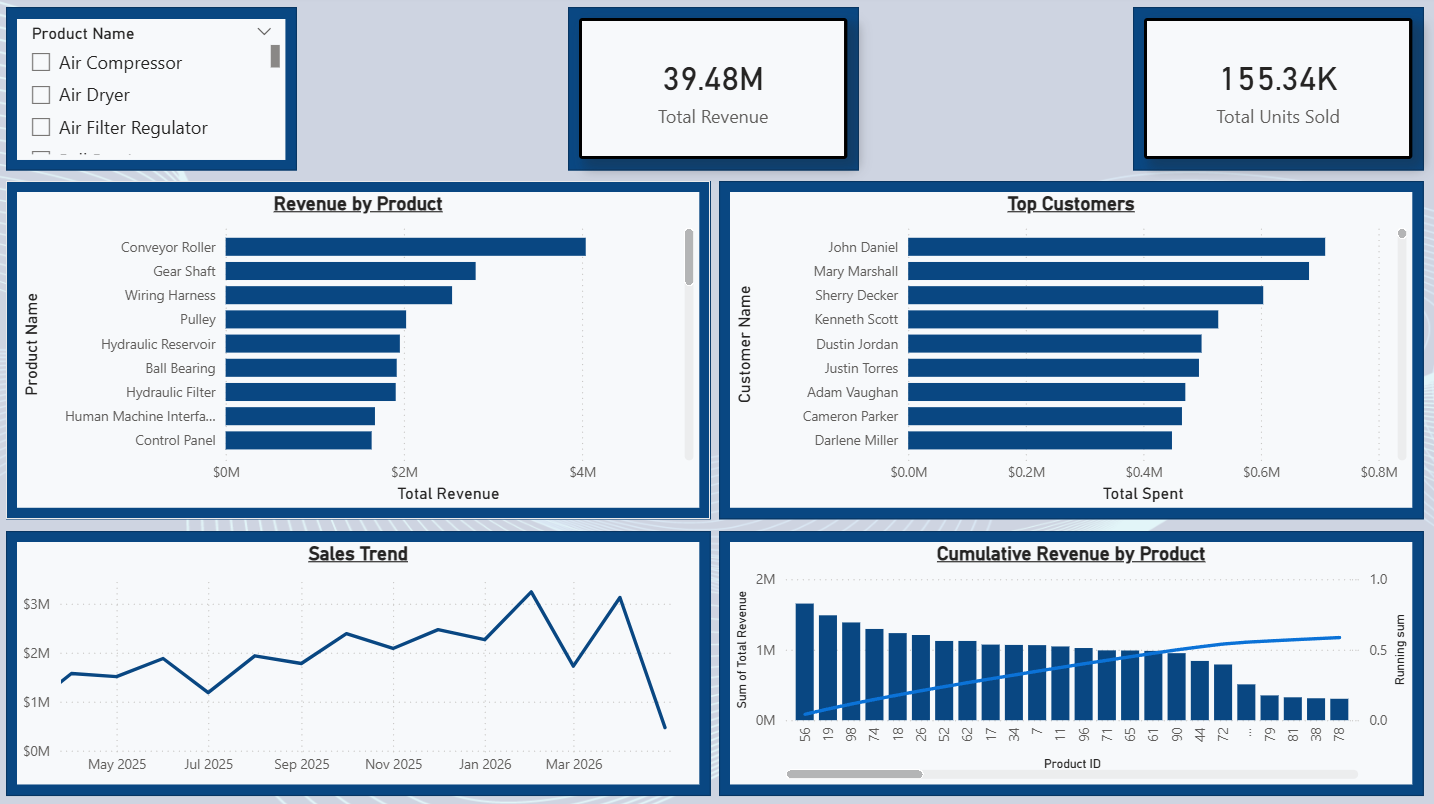

Layout of this report page (visuals, bound fields, positions):
{"tool":"powerbi","page":{"name":"Sales & Products","canvas":[1280,720],"ordinal":3},"visuals":[{"type":"shape","box":[12,10,258,145],"z":0},{"type":"group","id":"g1","title":"Group 1","box":[511,10,258,145],"z":0},{"type":"shape","box":[511,10,258,145],"z":0,"group":"g1"},{"type":"shape","box":[1012,10,258,145],"z":0,"group":"g7"},{"type":"shape","box":[645,474,625,235],"z":0,"group":"g5"},{"type":"group","id":"g2","title":"Group 2","box":[1012,10,258,145],"z":1000},{"type":"card","fields":{"Values":["Sum(supply_chain_db vw_product_sales.Total Revenue)"]},"box":[521,20,238,125],"z":1000,"group":"g1"},{"type":"shape","box":[645,164,625,300],"z":1000,"group":"g3"},{"type":"card","fields":{"Values":["Sum(supply_chain_db vw_product_sales.Total Units Sold)"]},"box":[1022,20,238,125],"z":2000,"group":"g7"},{"type":"group","id":"g3","title":"Group 4","box":[645,164,625,300],"z":2000},{"type":"shape","box":[12,474,625,235],"z":2000,"group":"g6"},{"type":"group","id":"g4","title":"Group 5","box":[12,164,625,300],"z":3000},{"type":"shape","box":[12,164,625,300],"z":3000,"group":"g4"},{"type":"barChart","title":"Revenue by Product","fields":{"Category":["supply_chain_db vw_product_sales.Product Name"],"Y":["Sum(supply_chain_db vw_product_sales.Total Revenue)"]},"box":[22,174,605,280],"z":4000,"group":"g4"},{"type":"group","id":"g5","title":"Group 6","box":[645,474,625,235],"z":4000},{"type":"barChart","title":"Top Customers","fields":{"Category":["supply_chain_db vw_customer_sales.Customer Name"],"Y":["Sum(supply_chain_db vw_customer_sales.Total Spent)"]},"box":[655,174,605,280],"z":5000,"group":"g3"},{"type":"group","id":"g6","title":"Group 7","box":[12,474,625,235],"z":5000},{"type":"slicer","fields":{"Values":["supply_chain_db vw_product_sales.Product Name"]},"box":[22,20,238,125],"z":5001},{"type":"lineChart","title":"Sales Trend","fields":{"Category":["supply_chain_db vw_revenue_trend.Required Date.Variation.Date Hierarchy.Year","supply_chain_db vw_revenue_trend.Required Date.Variation.Date Hierarchy.Month"],"Y":["Sum(supply_chain_db vw_revenue_trend.Revenue)"]},"box":[22,484,605,215],"z":6000,"group":"g6"},{"type":"lineClusteredColumnComboChart","title":"Cumulative Revenue by Product","fields":{"Y":["Sum(supply_chain_db vw_product_sales.Total Revenue)"],"Category":["supply_chain_db vw_product_sales.Product ID"],"Y2":["select"]},"box":[655,484,605,215],"z":7000,"group":"g5"},{"type":"group","id":"g7","title":"Group 3","box":[1012,10,258,145],"z":9001,"group":"g2"}]}

Visuals, with their boxes in screenshot pixels (x1, y1, x2, y2), scaled from the page's 1280x720 canvas onto the 1434x804 screenshot:
shape: (13,11,302,173)
"Group 1" group: (572,11,862,173)
shape: (572,11,862,173)
shape: (1134,11,1423,173)
shape: (723,529,1423,792)
"Group 2" group: (1134,11,1423,173)
card - Sum(supply_chain_db vw_product_sales.Total Revenue): (584,22,850,162)
shape: (723,183,1423,518)
card - Sum(supply_chain_db vw_product_sales.Total Units Sold): (1145,22,1412,162)
"Group 4" group: (723,183,1423,518)
shape: (13,529,714,792)
"Group 5" group: (13,183,714,518)
shape: (13,183,714,518)
"Revenue by Product" barChart: (25,194,702,507)
"Group 6" group: (723,529,1423,792)
"Top Customers" barChart: (734,194,1412,507)
"Group 7" group: (13,529,714,792)
slicer - supply_chain_db vw_product_sales.Product Name: (25,22,291,162)
"Sales Trend" lineChart: (25,540,702,781)
"Cumulative Revenue by Product" lineClusteredColumnComboChart: (734,540,1412,781)
"Group 3" group: (1134,11,1423,173)
